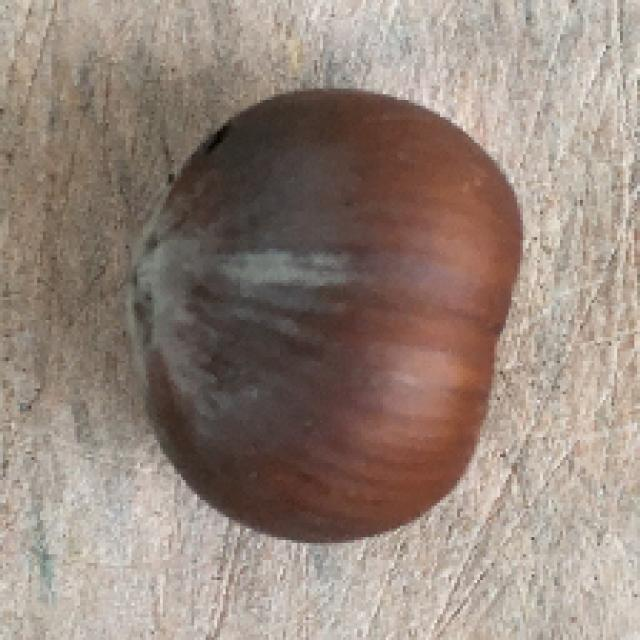damagedHazelnut: (127, 88, 521, 538)
